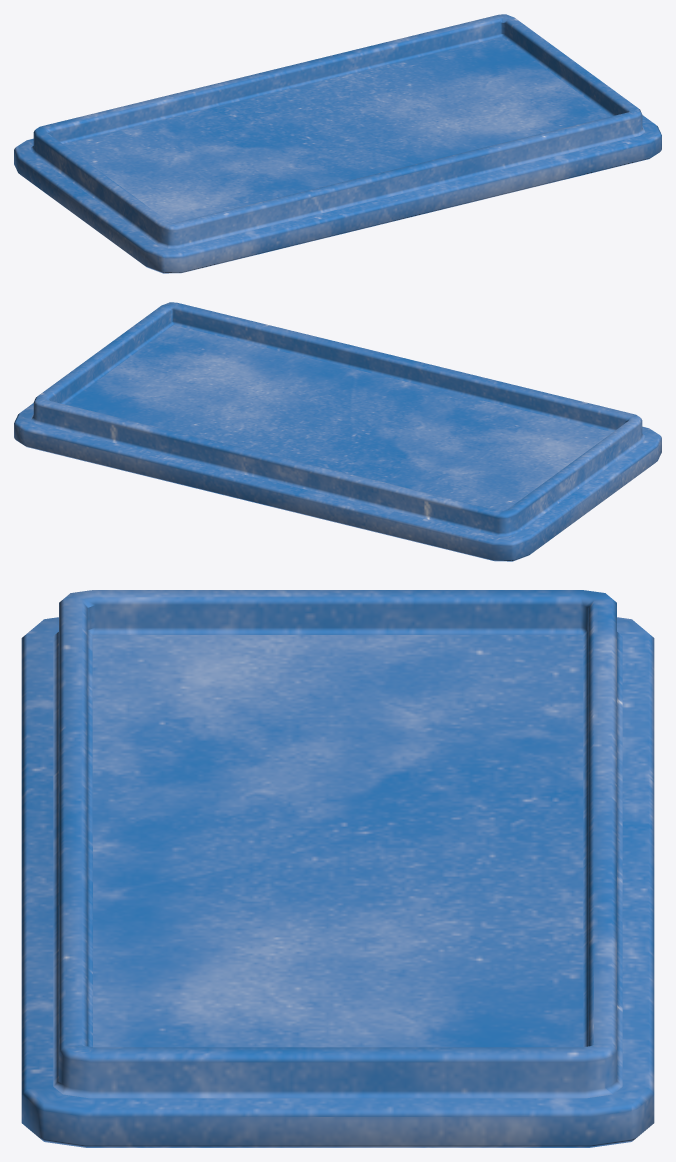
Rendered from SM_Tupper_Cover_3.fbx.
The picture shows the model from 3 angles, top to bottom: view 1: azimuth 30°, elevation 25°; view 2: azimuth 150°, elevation 25°; view 3: azimuth 270°, elevation 25°; orthographic projection. The views are drawn at different scales.
Visible parts, largest first — view 1: SM_Tupper_Cover_3_LOD0; view 2: SM_Tupper_Cover_3_LOD0; view 3: SM_Tupper_Cover_3_LOD0.
Part boxes in pixels (left/top/right/bottom): SM_Tupper_Cover_3_LOD0: left=14, top=14, right=661, bottom=273; SM_Tupper_Cover_3_LOD0: left=14, top=302, right=661, bottom=561; SM_Tupper_Cover_3_LOD0: left=21, top=590, right=654, bottom=1147.
Bounding box in the file's own units: 29.47 × 15.73 × 2.12.
Materials: 1 (1 with a texture image).
